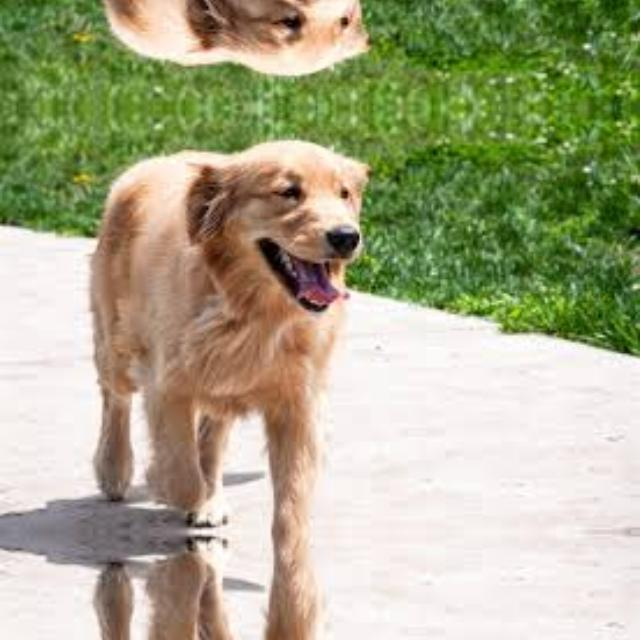dog: (85, 124, 373, 532), (85, 531, 373, 640), (85, 0, 373, 89)
